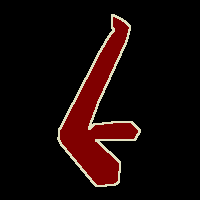tie: (58, 14, 140, 186)
